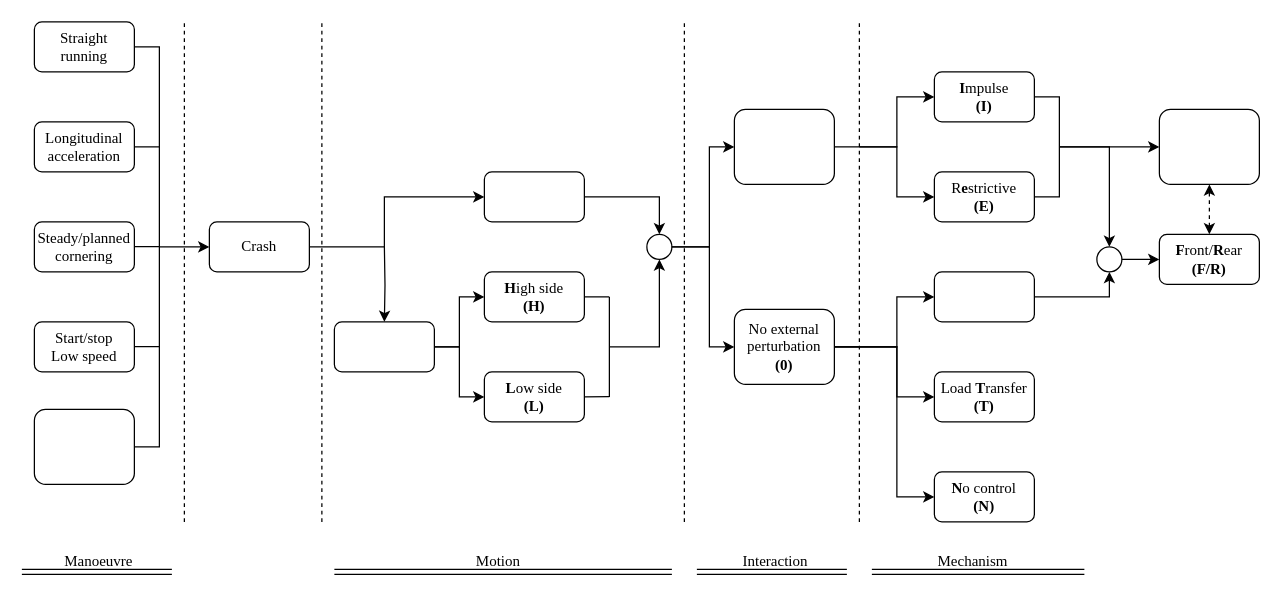
Some shapes in this 1281 by 596 pixel diagram are drawn without their labels. Here are the shapes that lost their labels. From the top down, the centre of each, then its label:
At (783,146): "External perturbation (1)".
At (1208,146): "Lon gitudinal/ Lat eral (Lon/Lat)".
At (533,196): "P itch over (P)".
At (983,296): "S lide (S)".
At (383,346): "Roll over".
At (83,446): "Unplanned turning/ avoidance".
